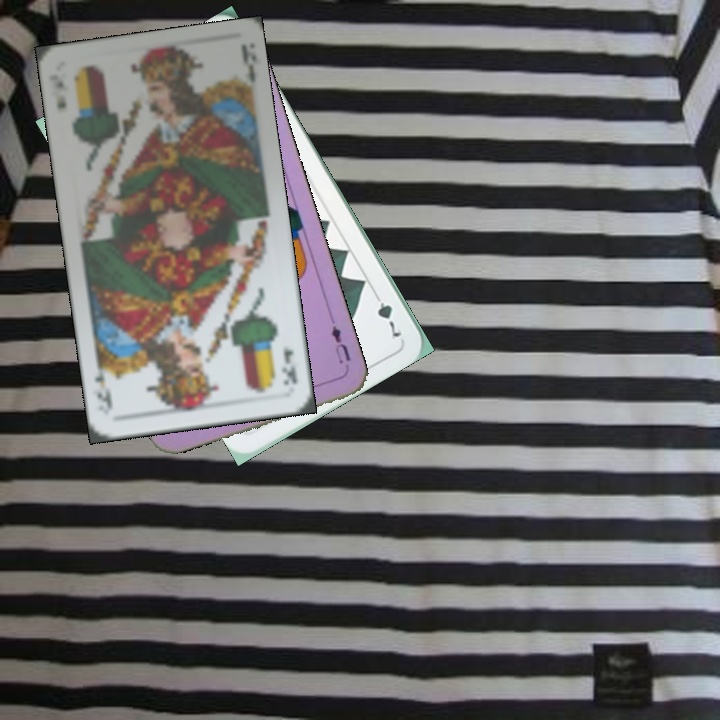EK: (278, 341, 300, 389), (46, 71, 68, 112)
EU: (326, 314, 353, 367)
G7: (368, 287, 404, 343)
